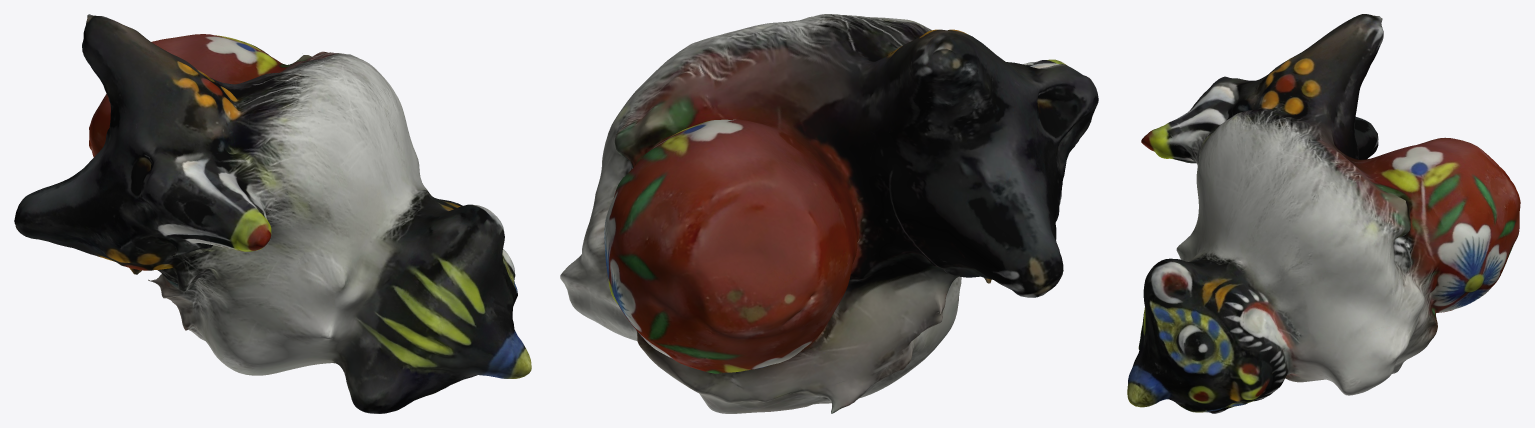
3 renders of one model, left to right at view 1: azimuth 30°, elevation 25°; view 2: azimuth 150°, elevation 25°; view 3: azimuth 270°, elevation 25°, orthographic. The views are drawn at different scales.
Size of the model in its own units: 0.5691 by 0.4831 by 0.5784.
Materials: 1 (1 with a texture image).
